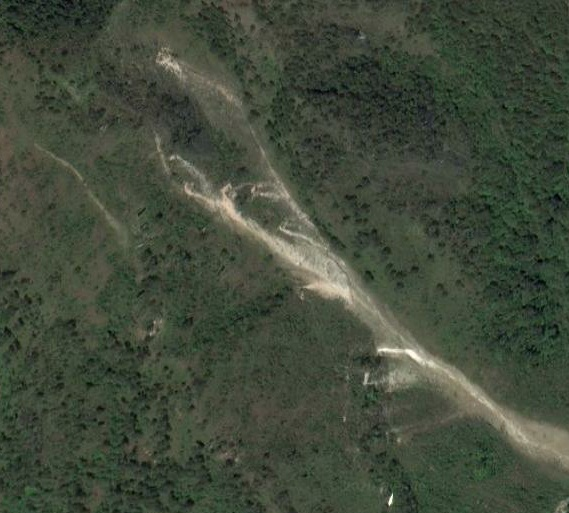slope: (376, 324, 568, 490), (221, 187, 351, 302)
